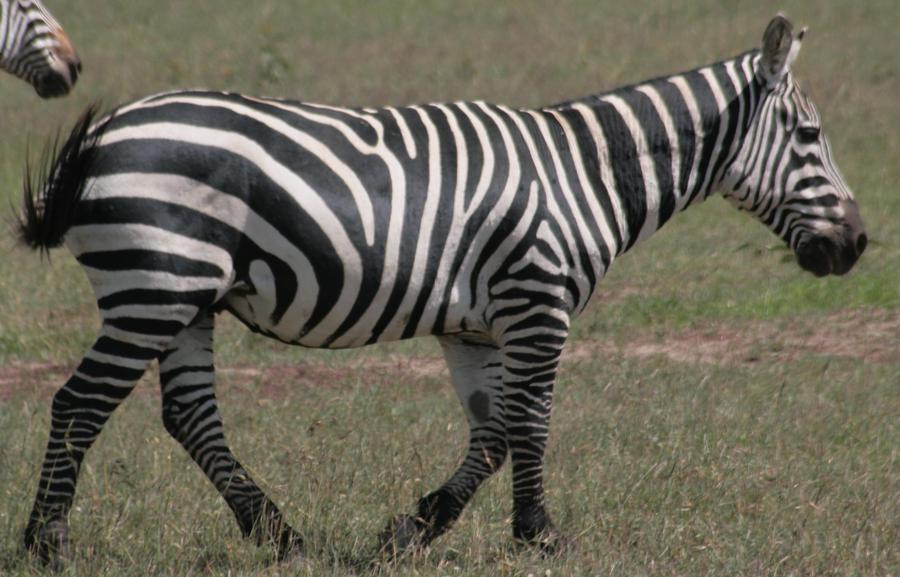zebra_plains: (87, 77, 595, 349)
